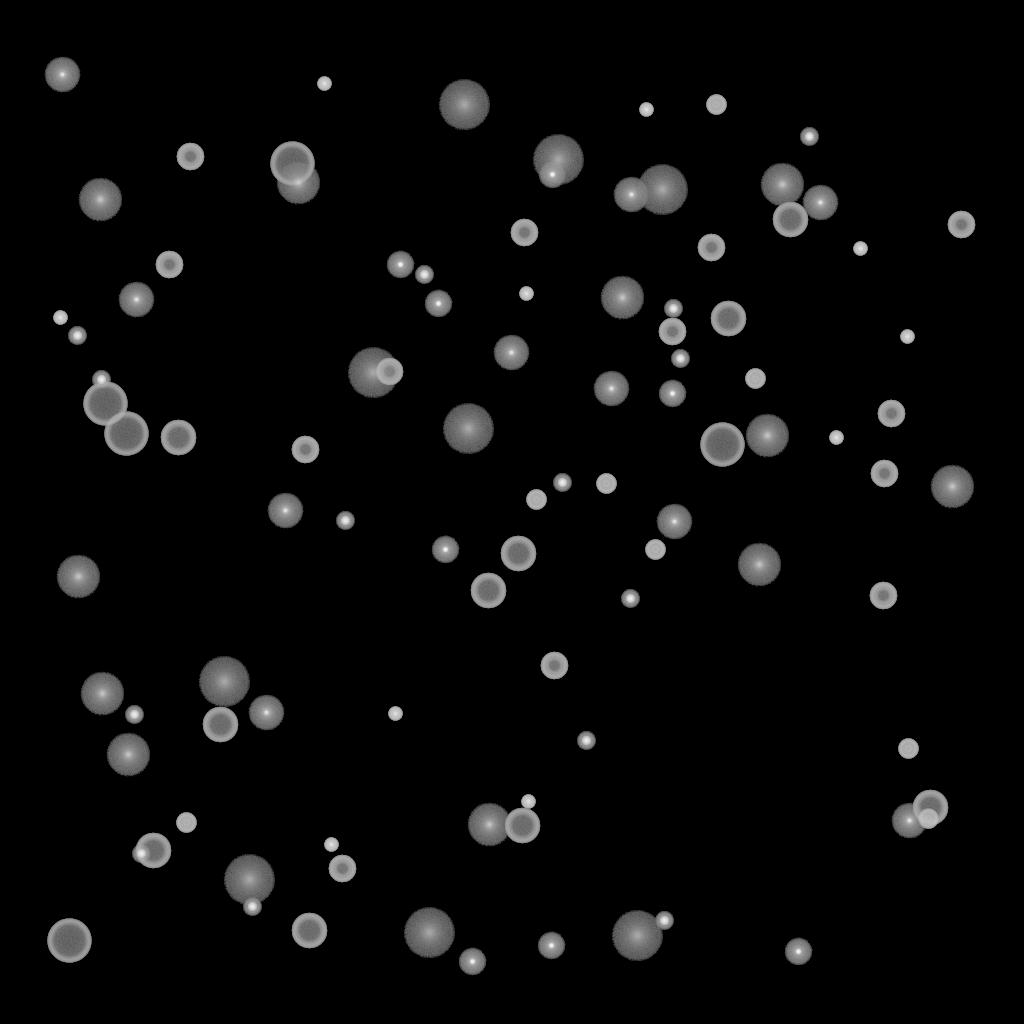depth:-10: (537, 932, 565, 960), (431, 536, 459, 564), (424, 290, 452, 318), (658, 380, 686, 408), (538, 161, 566, 189), (784, 938, 812, 966), (386, 251, 414, 279), (458, 948, 486, 976)
depth:-20: (800, 128, 818, 146), (664, 300, 682, 318), (415, 266, 433, 284), (132, 845, 150, 863), (655, 912, 673, 930), (243, 898, 261, 916), (336, 512, 354, 530), (621, 590, 639, 608), (68, 327, 86, 345), (125, 706, 143, 724), (577, 732, 595, 750), (92, 371, 110, 389), (553, 474, 571, 492), (671, 350, 689, 368)
depth:-30: (317, 77, 331, 91), (521, 795, 535, 809), (853, 242, 867, 256), (829, 431, 843, 445), (519, 287, 533, 301), (53, 311, 67, 325), (639, 103, 653, 117), (388, 707, 402, 721), (900, 330, 914, 344), (324, 838, 338, 852)
depth:-40: (706, 95, 726, 115), (596, 474, 616, 494), (526, 490, 546, 510), (645, 540, 665, 560), (745, 369, 765, 389), (918, 809, 938, 829), (176, 813, 196, 833), (898, 739, 918, 759)
depth:-50: (510, 219, 538, 247), (947, 211, 975, 239), (176, 143, 204, 171), (328, 855, 356, 883), (291, 436, 319, 464), (697, 234, 725, 262), (658, 318, 686, 346), (877, 400, 905, 428), (870, 460, 898, 488), (375, 358, 403, 386), (869, 582, 897, 610), (540, 652, 568, 680), (155, 251, 183, 279)
depth:-60: (772, 202, 808, 238), (470, 573, 506, 609), (504, 808, 540, 844), (135, 833, 171, 869), (912, 790, 948, 826), (500, 536, 536, 572), (710, 301, 746, 337), (291, 913, 327, 949), (160, 420, 196, 456), (202, 707, 238, 743)
depth:-70: (104, 412, 148, 456), (47, 919, 91, 963), (700, 423, 744, 467), (270, 142, 314, 186), (83, 382, 127, 426)
depth:0: (248, 695, 284, 731), (267, 493, 303, 529), (891, 803, 927, 839), (593, 371, 629, 407), (493, 335, 529, 371), (44, 57, 80, 93), (613, 177, 649, 213), (802, 185, 838, 221), (118, 282, 154, 318), (656, 504, 692, 540)
depth:10: (737, 543, 781, 587), (106, 733, 150, 777), (78, 178, 122, 222), (760, 163, 804, 207), (56, 555, 100, 599), (276, 161, 320, 205), (467, 803, 511, 847), (745, 414, 789, 458), (600, 276, 644, 320), (80, 672, 124, 716), (930, 465, 974, 509)
depth:20: (532, 135, 584, 185), (636, 165, 688, 215), (347, 348, 399, 398), (442, 404, 494, 454), (611, 911, 663, 961), (438, 80, 490, 130), (198, 657, 250, 707), (403, 908, 455, 958), (223, 855, 275, 905)
